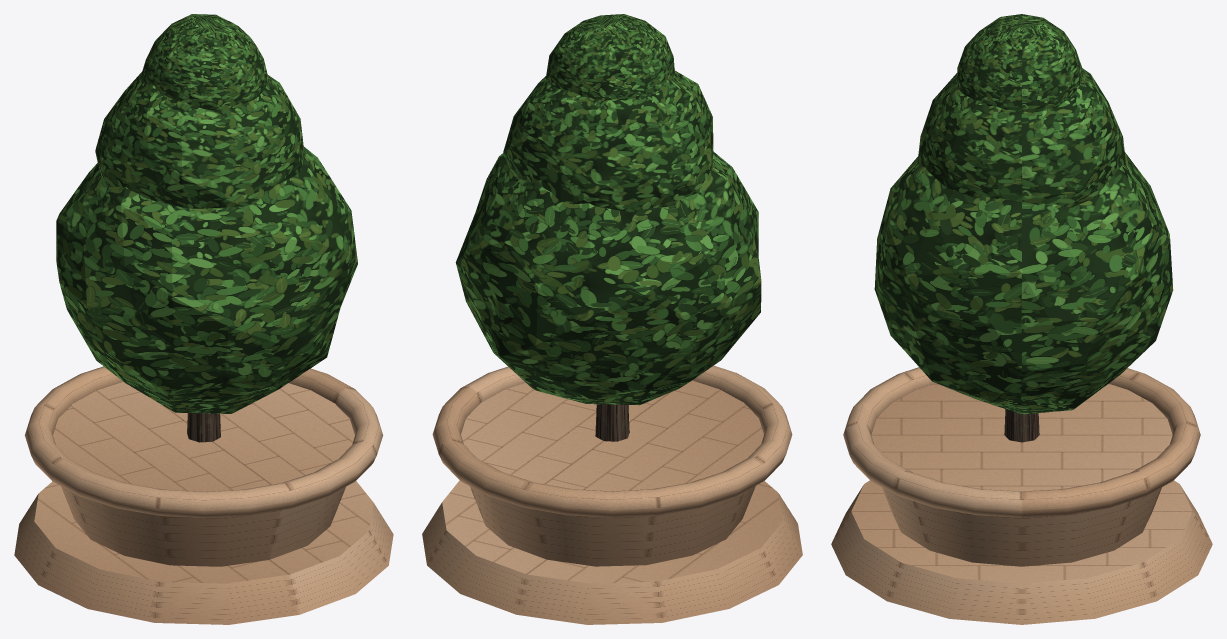
Rendered from arbusto_topiario.obj.
The picture shows the model from 3 angles, left to right: view 1: azimuth 30°, elevation 25°; view 2: azimuth 150°, elevation 25°; view 3: azimuth 270°, elevation 25°; orthographic projection.
Parts seen in each view (by area): view 1: Topiario_Nivel_1, Mesh_65, Mesh_1, Topiario_Nivel_2, Mesh_129, Topiario_Nivel_3, Mesh_529; view 2: Topiario_Nivel_1, Mesh_65, Mesh_1, Topiario_Nivel_2, Mesh_129, Topiario_Nivel_3, Mesh_529; view 3: Topiario_Nivel_1, Mesh_65, Mesh_1, Topiario_Nivel_2, Mesh_129, Topiario_Nivel_3, Mesh_529.
Boxes of the visible parts, <box> form: Topiario_Nivel_1: <box>56,146,357,413</box>; Mesh_65: <box>53,381,354,566</box>; Mesh_1: <box>14,481,393,624</box>; Topiario_Nivel_2: <box>95,71,304,208</box>; Mesh_129: <box>24,366,383,518</box>; Topiario_Nivel_3: <box>140,14,268,110</box>; Mesh_529: <box>187,413,220,442</box>; Topiario_Nivel_1: <box>455,151,761,405</box>; Mesh_65: <box>461,380,763,566</box>; Mesh_1: <box>422,480,802,624</box>; Topiario_Nivel_2: <box>503,70,713,211</box>; Mesh_129: <box>432,365,792,517</box>; Topiario_Nivel_3: <box>546,14,674,100</box>; Mesh_529: <box>595,404,629,441</box>; Topiario_Nivel_1: <box>874,152,1173,414</box>; Mesh_65: <box>871,383,1172,566</box>; Mesh_1: <box>831,480,1212,624</box>; Topiario_Nivel_2: <box>917,68,1125,207</box>; Mesh_129: <box>843,367,1200,517</box>; Topiario_Nivel_3: <box>956,14,1082,112</box>; Mesh_529: <box>1004,409,1039,442</box>.
Size of the model in its own units: 1.9 by 2.87 by 1.9.
4 materials, 4 textured.
